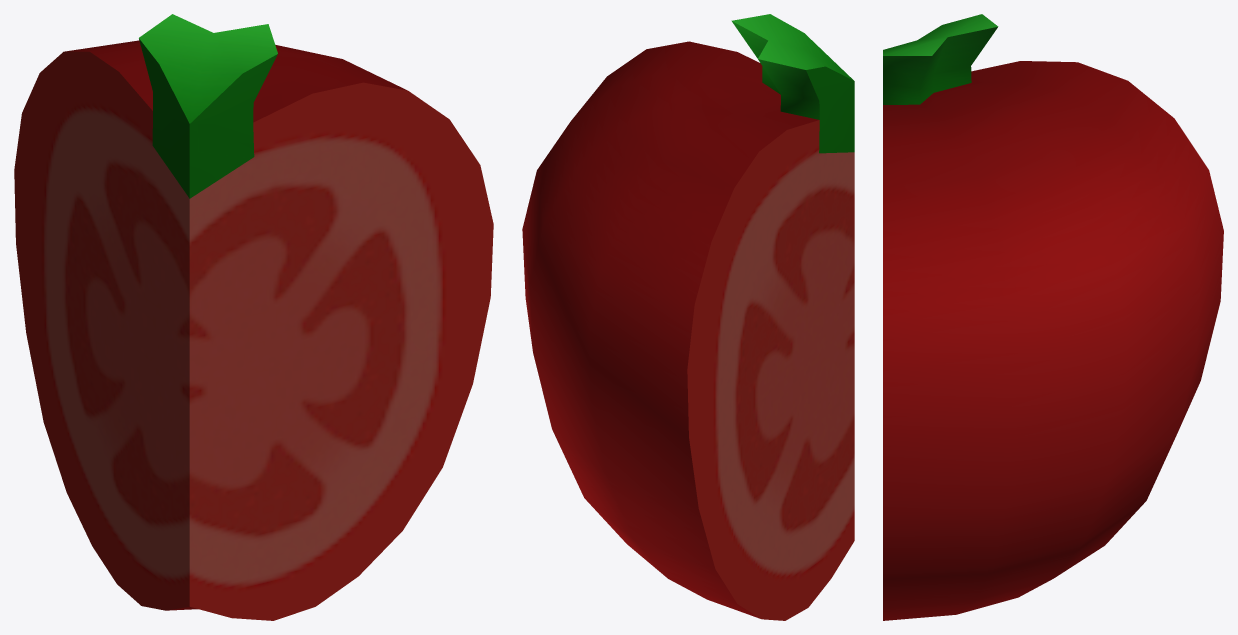
Rendered from Tomato_piece.glb.
3 renders of one model, left to right at view 1: azimuth 30°, elevation 25°; view 2: azimuth 150°, elevation 25°; view 3: azimuth 270°, elevation 25°, orthographic. The views are drawn at different scales.
Visible parts, largest first — view 1: geometry_0; view 2: geometry_0; view 3: geometry_0.
Part boxes in pixels (left/top/right/bottom): geometry_0: left=14, top=14, right=493, bottom=620; geometry_0: left=522, top=14, right=854, bottom=620; geometry_0: left=883, top=14, right=1223, bottom=620.
Size of the model in its own units: 0.1719 by 0.311 by 0.1719.
Materials: 1 (1 with a texture image).
